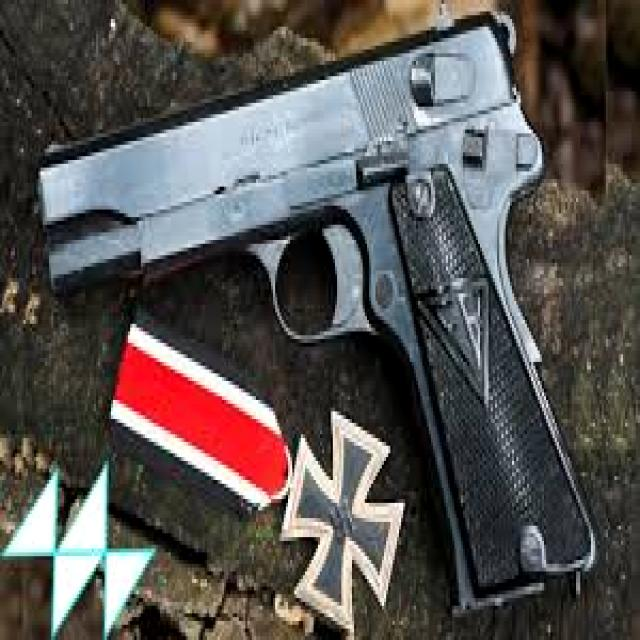semi automatic: (25, 4, 603, 630)
